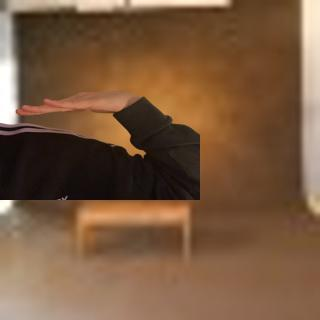Wait: (14, 81, 142, 121)
